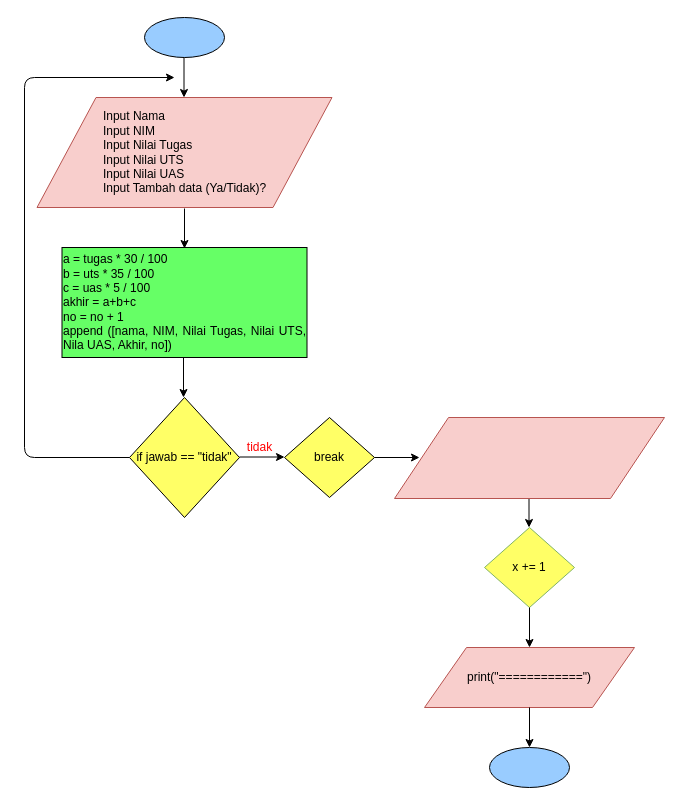
This 682x805 diagram has some shape labels left out. Each missing label, with the centre of its shape:
END: (529,767)
print("===========") print(" | Nama | NIM | Tugas | UTS | UAS | Akhir | "): (529,457)
START: (184,37)
